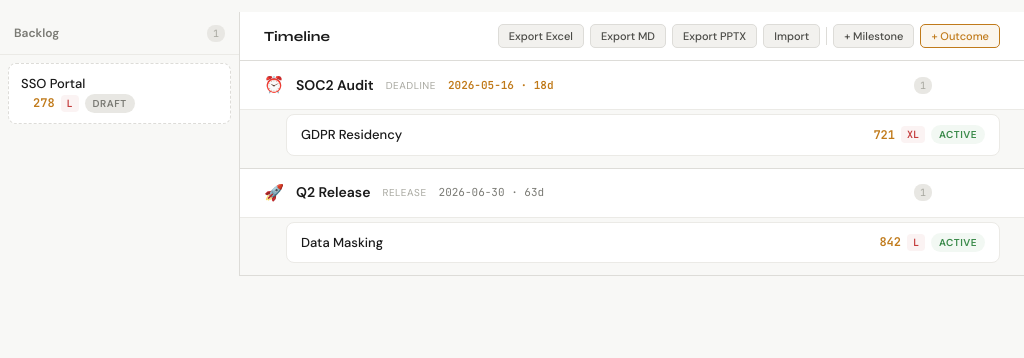
TimelineView › opens detail panel when clicking an outcome card
Click the element with class "outcome-card" showing "GDPR Residency 721 XL active" at point(643, 135), box [286, 114, 1000, 156]
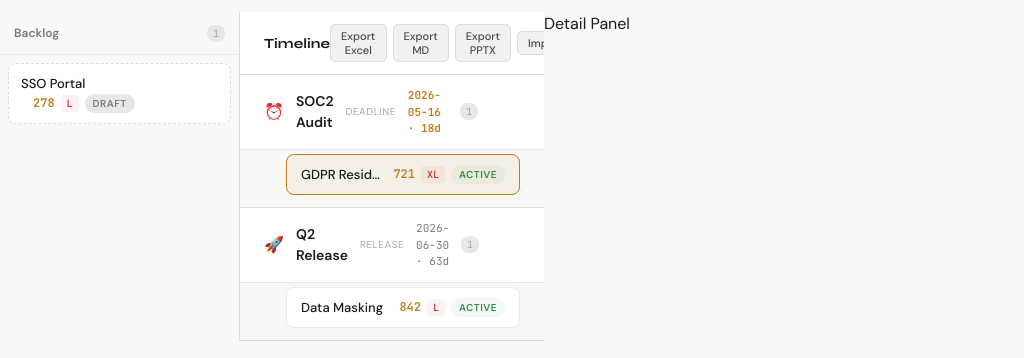
Now the text "Detail Panel" is shown, box [544, 13, 630, 34]
